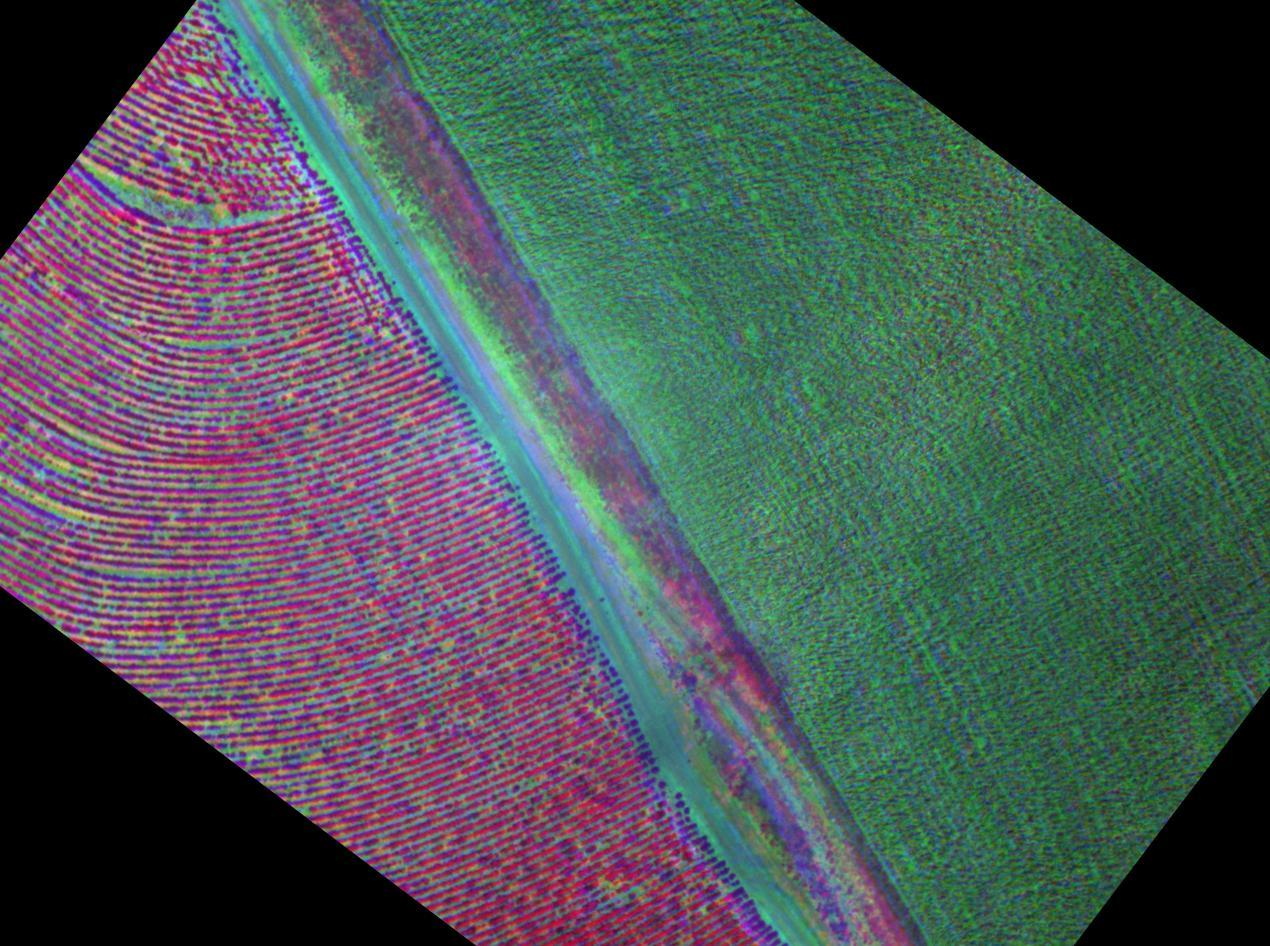dc: (81, 155, 252, 242), (86, 555, 197, 660), (118, 310, 290, 372), (0, 425, 99, 530), (271, 500, 390, 573), (376, 408, 465, 466)
